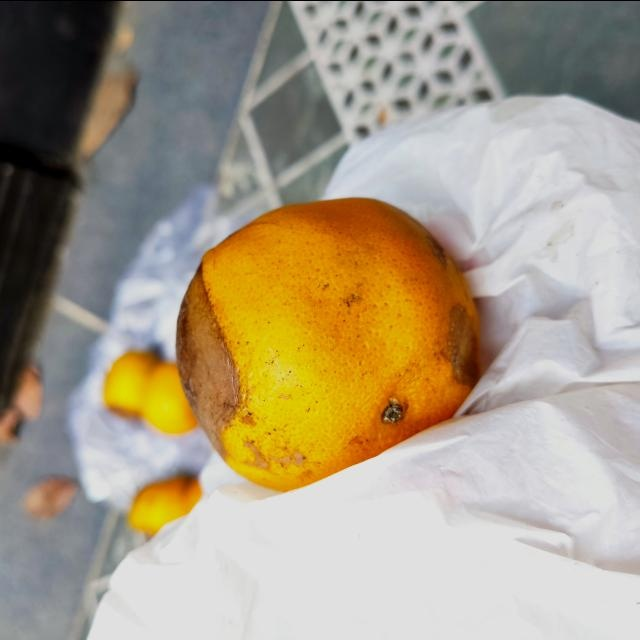agrume: (173, 195, 483, 493)
